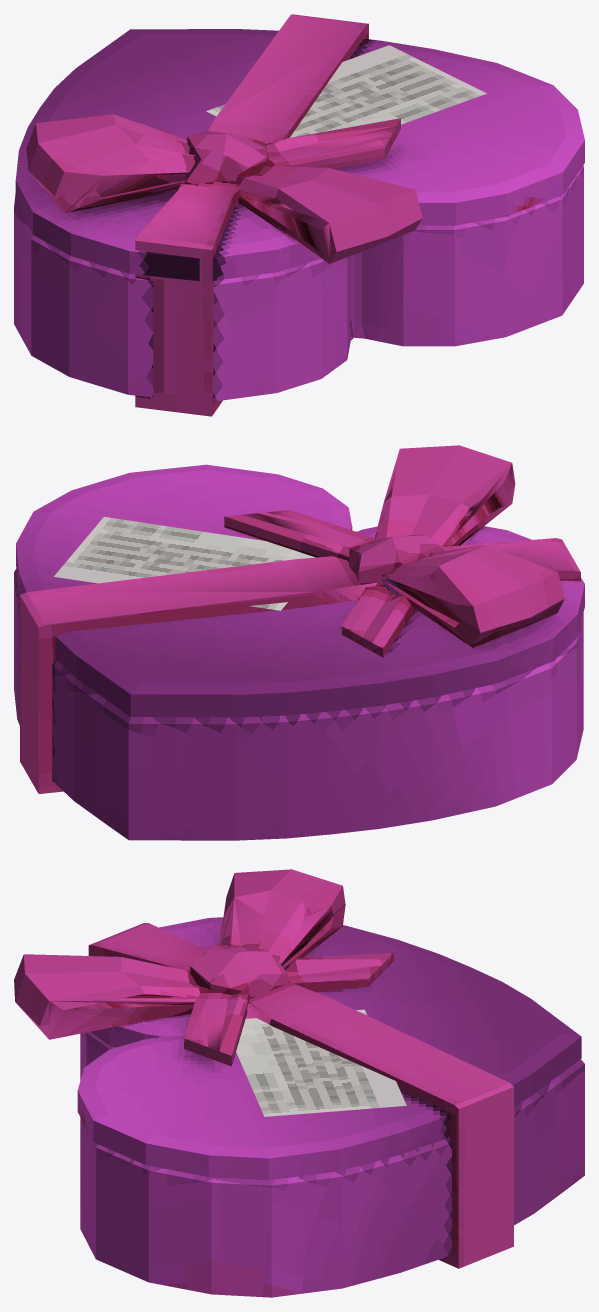
The model's file is item_momboss_box.glb.
The picture shows the model from 3 angles, top to bottom: view 1: azimuth 30°, elevation 25°; view 2: azimuth 150°, elevation 25°; view 3: azimuth 270°, elevation 25°; orthographic projection. The views are drawn at different scales.
Parts seen in each view (by area): view 1: HeartChocolateBox, Quad; view 2: HeartChocolateBox, Quad; view 3: HeartChocolateBox, Quad.
Boxes of the visible parts, bbox=[...] form: HeartChocolateBox: bbox=[14, 14, 584, 416]; Quad: bbox=[206, 45, 486, 137]; HeartChocolateBox: bbox=[14, 445, 584, 840]; Quad: bbox=[54, 517, 315, 610]; HeartChocolateBox: bbox=[14, 869, 584, 1297]; Quad: bbox=[236, 1009, 406, 1116].
Size of the model in its own units: 0.4471 by 0.1828 by 0.4421.
2 materials, 2 textured.
